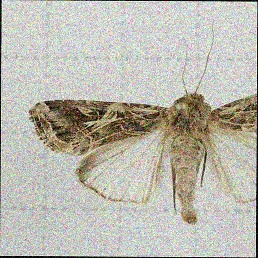Spodoptera litura: (27, 17, 257, 226)
